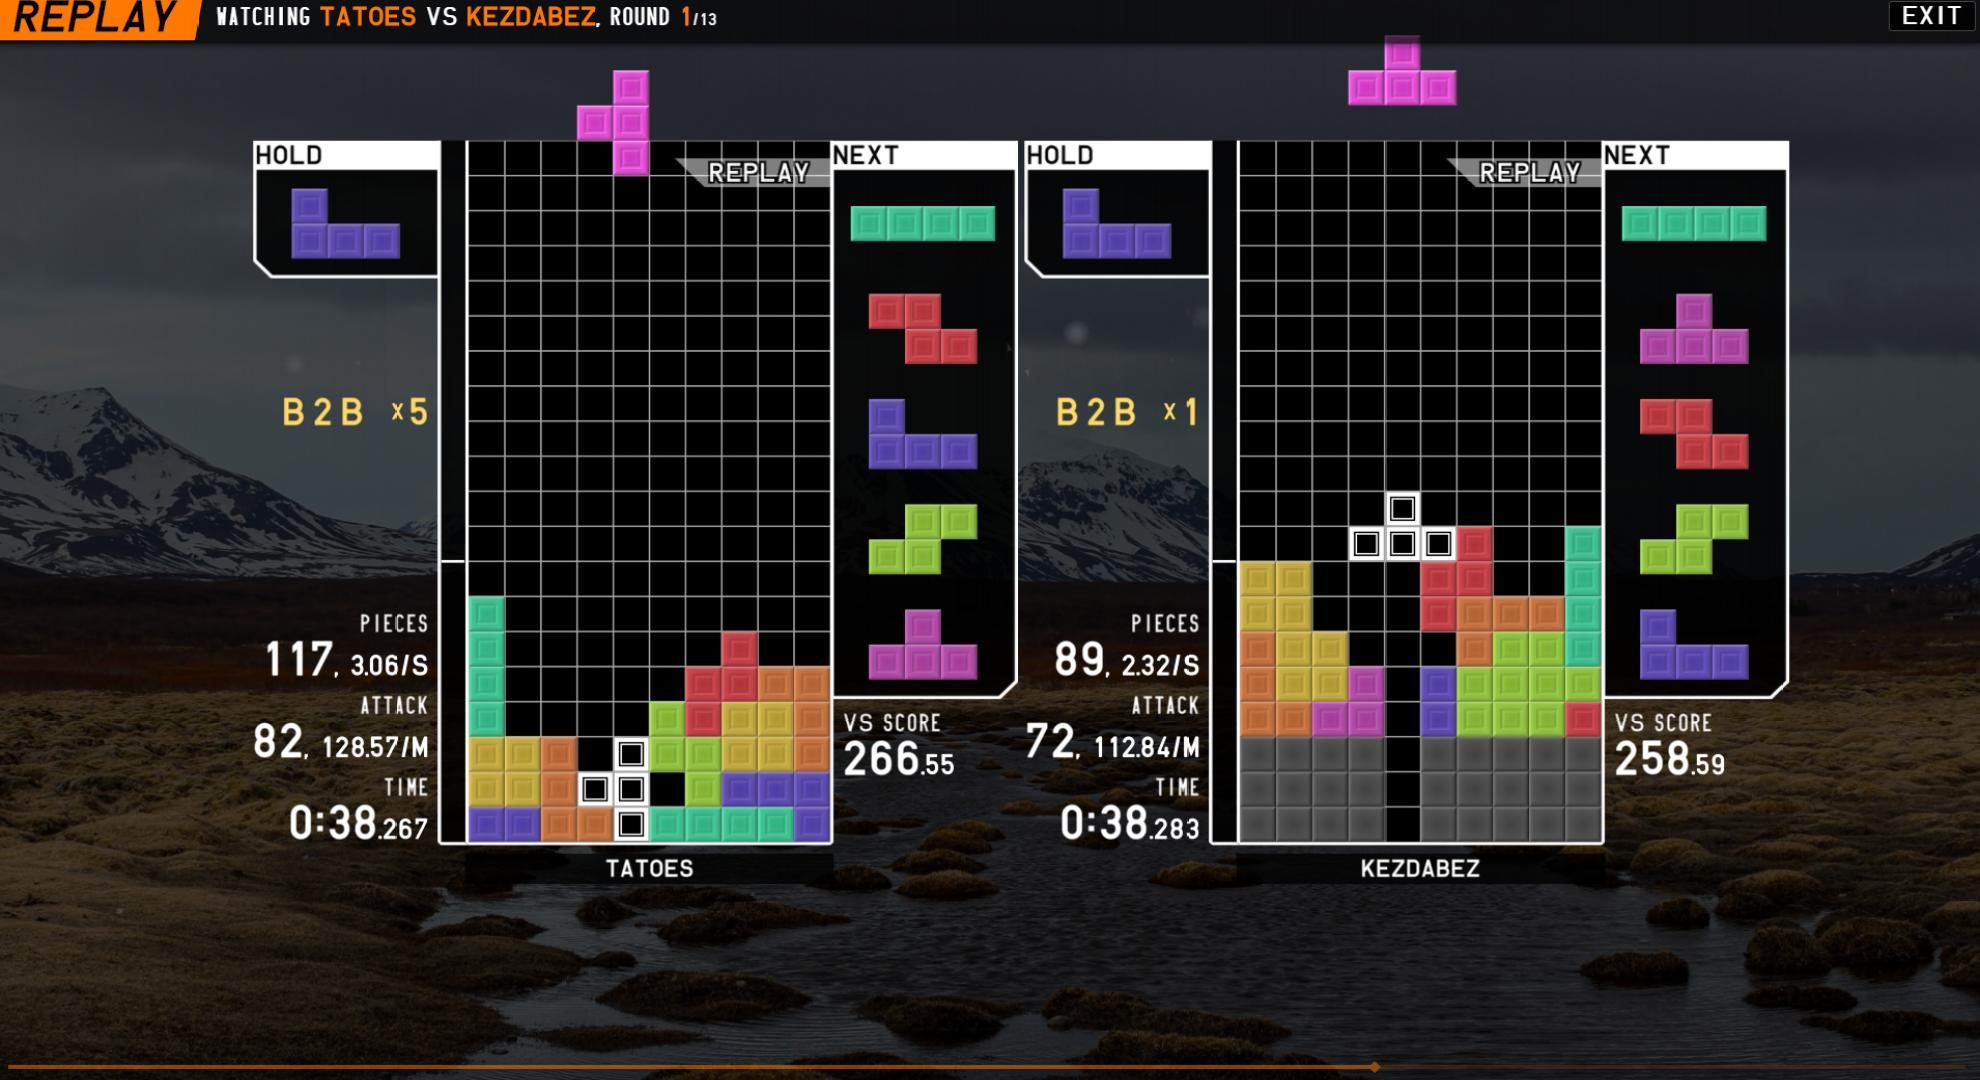tspin: (1340, 596, 1468, 704), (577, 732, 698, 842)
